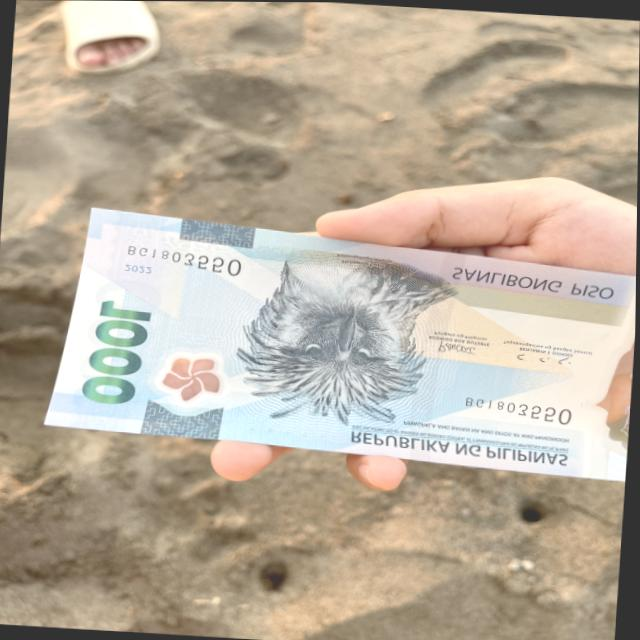eagle: (228, 237, 474, 437)
sampaguita: (149, 343, 237, 410)
